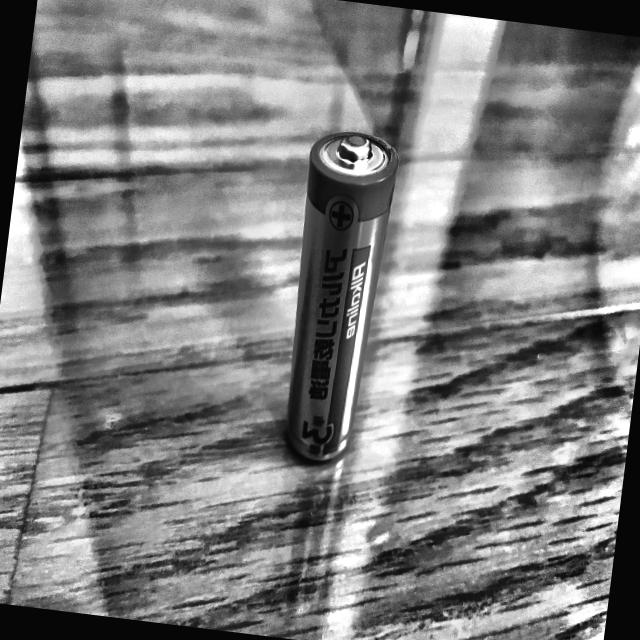drycell: (253, 119, 408, 472)
